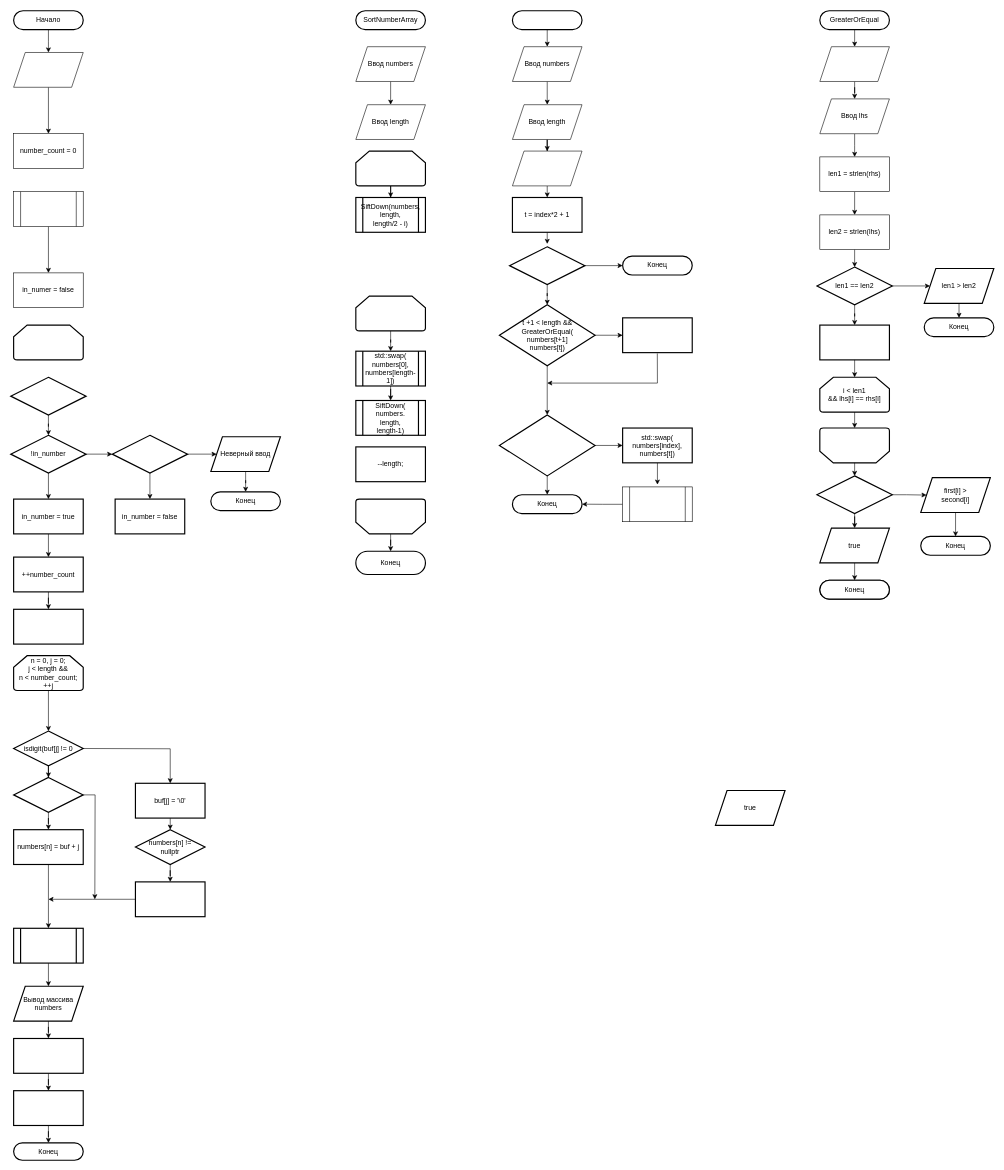
Some shapes in this 1004 by 1170 pixel diagram are drawn without their labels. Here are the shapes that lost their labels. From the top down, the centre of each, then its label:
(x=547, y=20): SiftDown
(x=48, y=69): Ввод buf
(x=854, y=63): Ввод rhs
(x=390, y=168): i = 0; i <= length/2; ++i
(x=547, y=168): Ввод index
(x=48, y=208): length = std::strlen(buf)
(x=547, y=265): t < length
(x=48, y=342): i = 0; i<length; ++i
(x=657, y=335): t += 1
(x=854, y=342): i = 0
(x=48, y=395): isdigit(buf[i])
(x=149, y=453): isspace(buf[i])
(x=547, y=445): GreaterOrEqual( numbers[index] numbers[t])
(x=854, y=445): ++i
(x=657, y=504): SiftDown( numbers, length, t)
(x=854, y=494): i == len1
(x=390, y=516): length != 0
(x=48, y=626): numbers = new char*[number_count](nullptr)
(x=48, y=795): numbers[n] == nullptr
(x=170, y=899): ++n
(x=48, y=945): SortNumberArray (numbers, number_count)
(x=48, y=1056): delete[] buf
(x=48, y=1108): delete[] numbers
